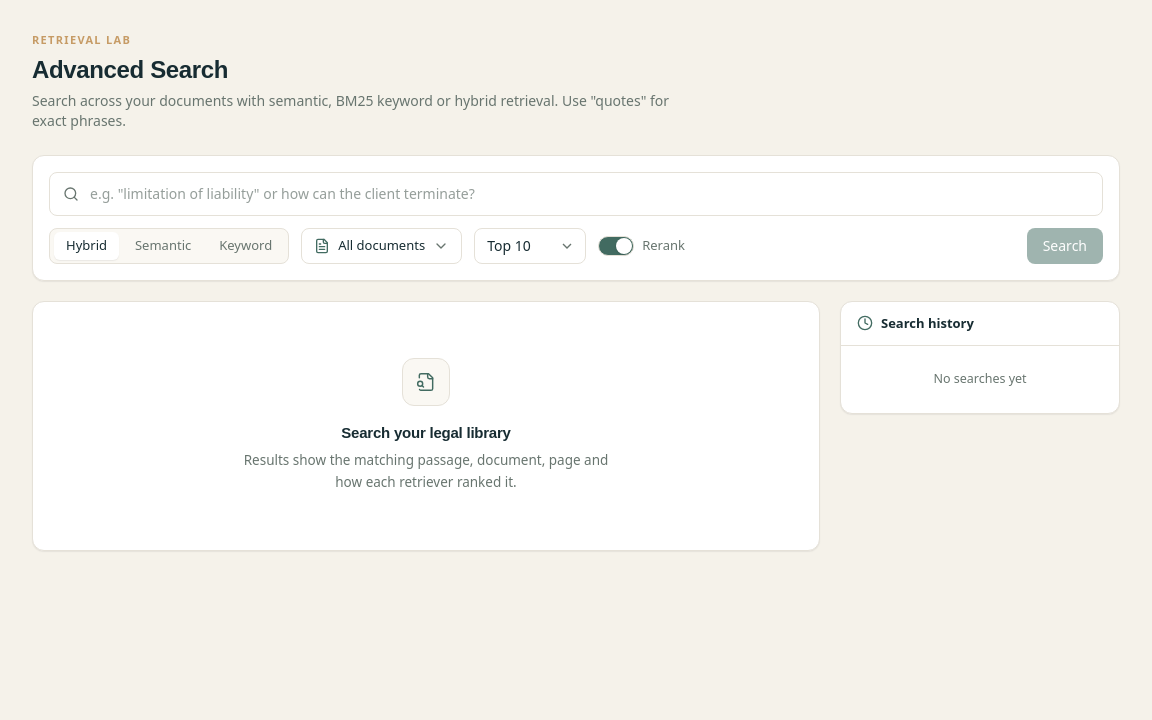
Test: Search › runs a hybrid search and shows page-level results
In the field named "Search query": x=576, y=194 [49,172,1103,216], type "liability cap"
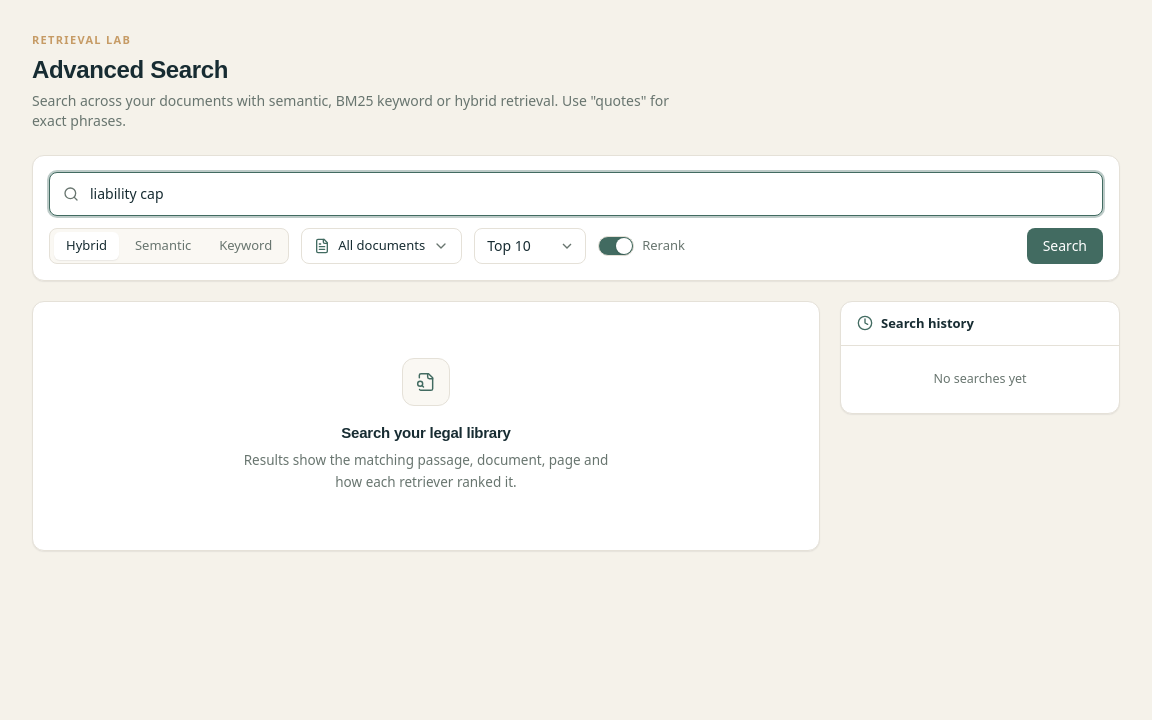
Click the button "Search": x=1065, y=246 [1027,228,1103,264]
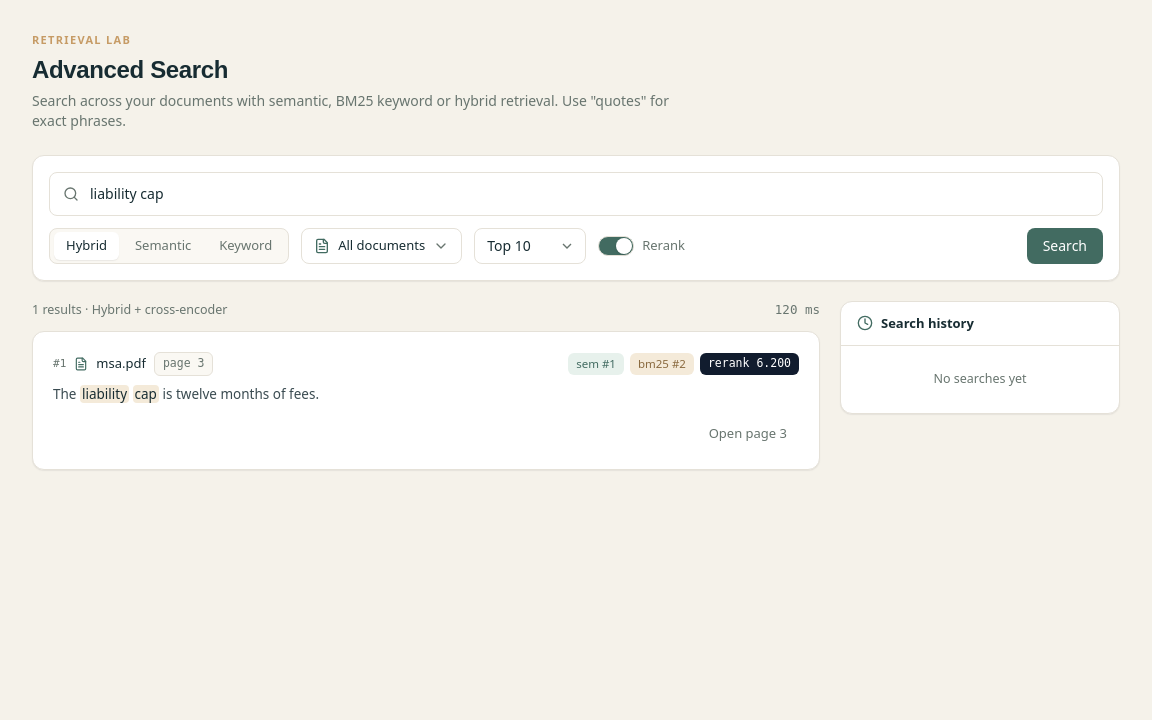
Expected: the text "page 3" is shown, [154,352,214,376]
Expected: the text "sem #1" is shown, [568,353,624,375]
Expected: the text "bm25 #2" is shown, [630,353,694,375]
